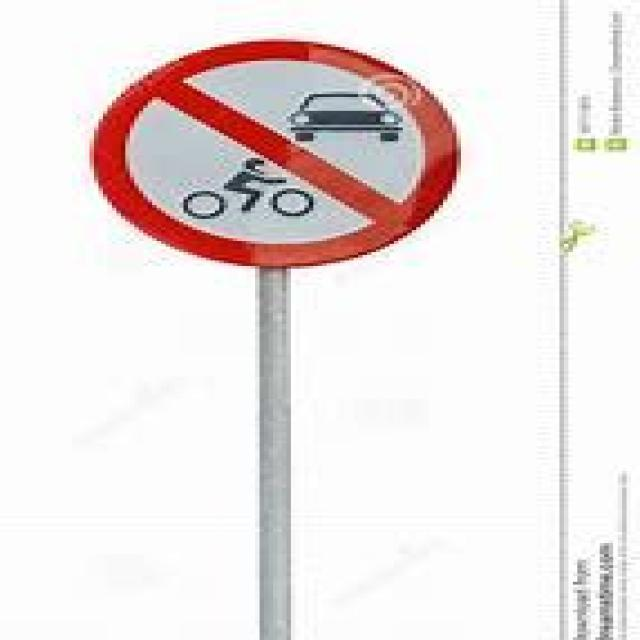all motor vehicle prohibited: (85, 34, 463, 268)
